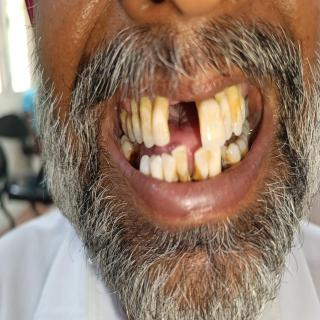calculus: (194, 160, 206, 180), (123, 146, 138, 162), (178, 166, 192, 182), (236, 147, 248, 165), (219, 154, 231, 171), (169, 170, 181, 183)
maligned: (197, 91, 223, 149), (172, 143, 190, 183), (162, 152, 180, 180), (191, 146, 207, 176)
